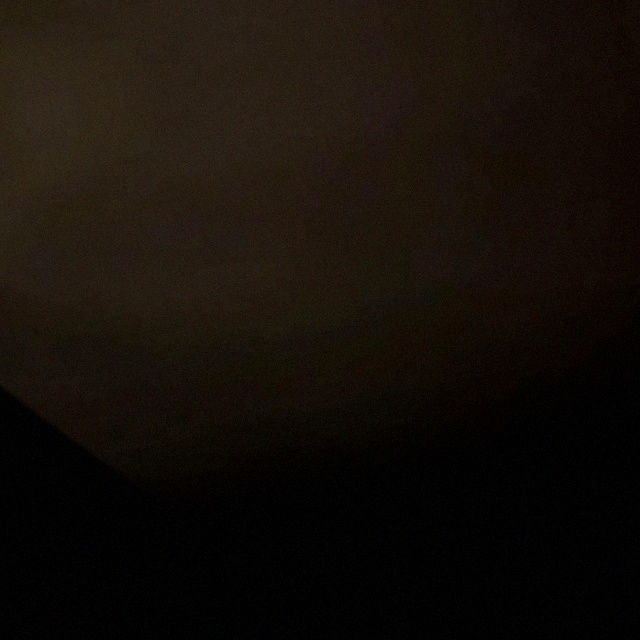Paper: (227, 617, 640, 640)
